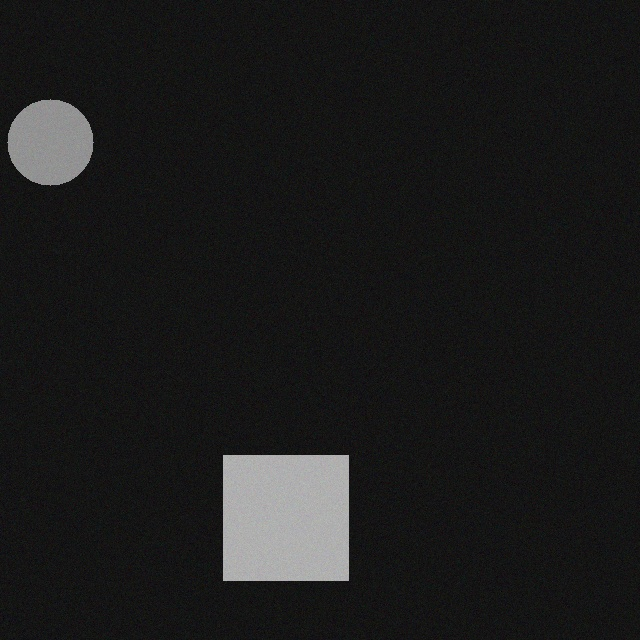circle: (10, 100, 96, 186)
square: (226, 456, 351, 581)
